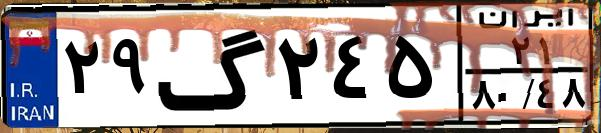0: (495, 70, 520, 125)
1: (537, 27, 568, 80)
2: (270, 28, 330, 110), (57, 26, 110, 100), (508, 27, 537, 80)
4: (330, 28, 385, 110), (535, 70, 560, 125)
5: (385, 28, 445, 110)
8: (560, 70, 590, 125), (470, 70, 495, 125)
9: (110, 28, 156, 98)
گ: (156, 12, 270, 120)
